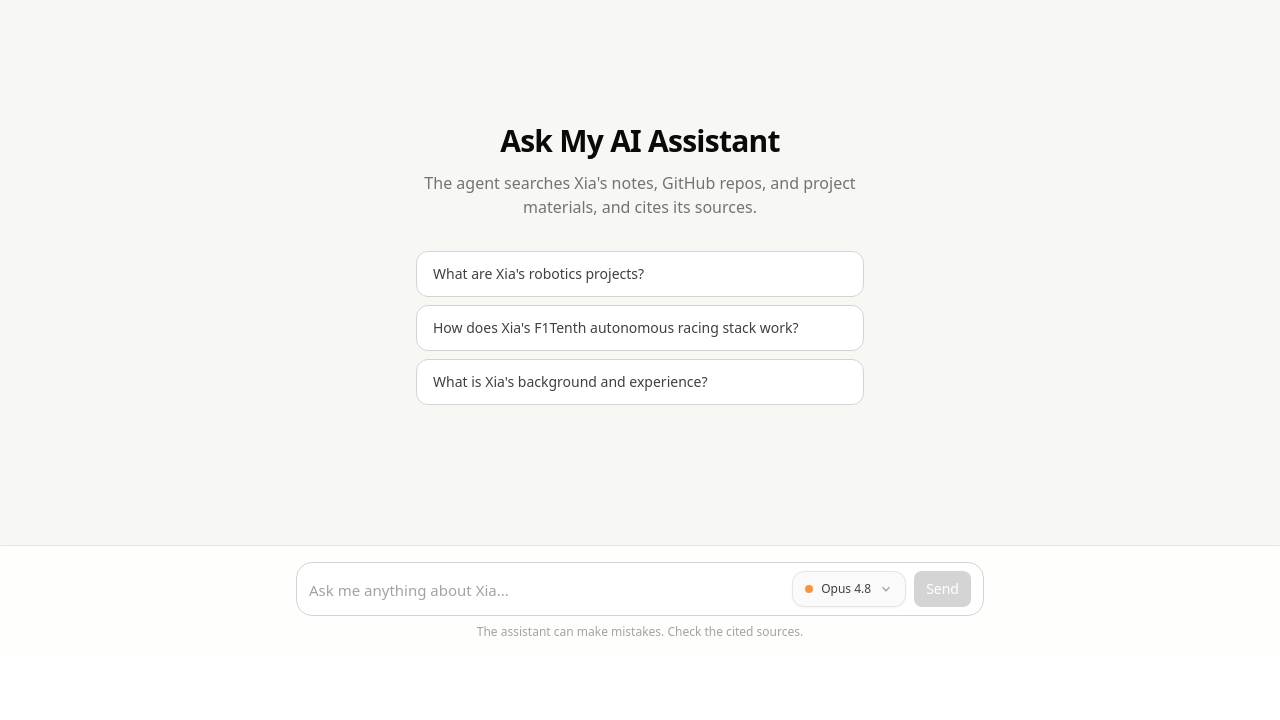
Test: shows a generic error when the chat connection fails
Type "Hello" into the text box with placeholder "Ask me anything about Xia..." at (547, 590), box [309,572,784,607]
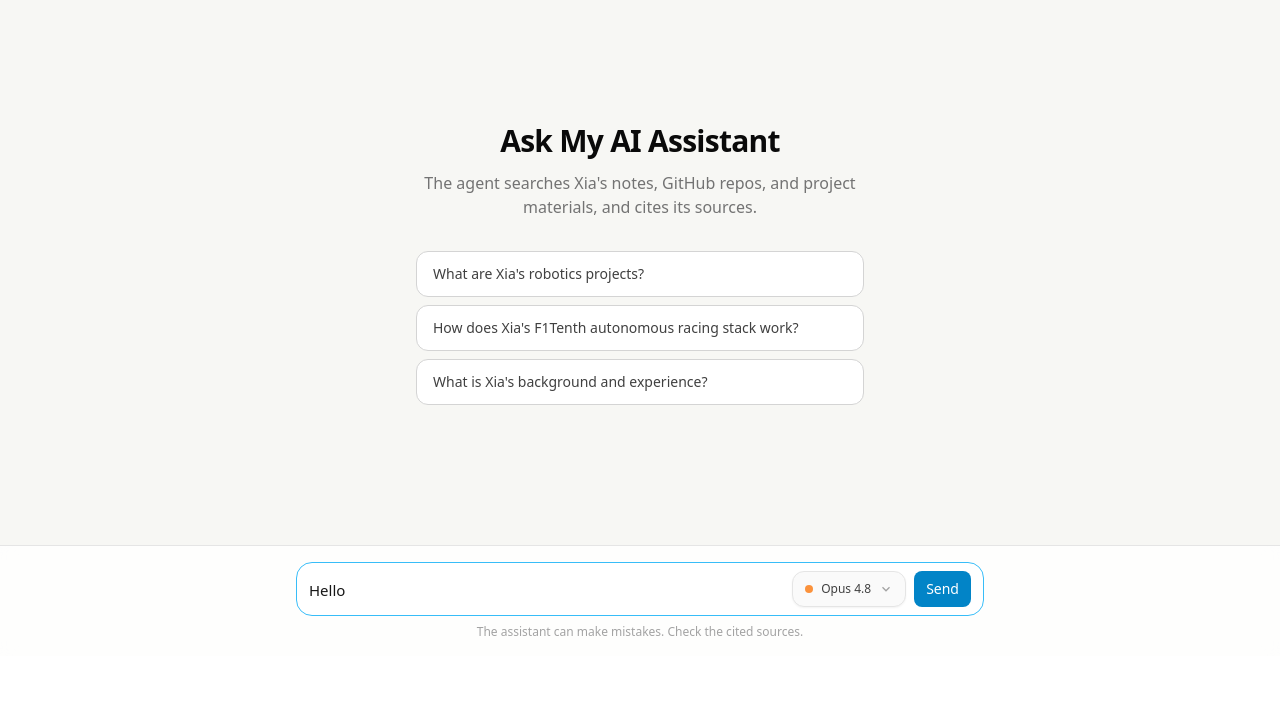
Click the button "Send" at (943, 589), box [914,571,971,607]
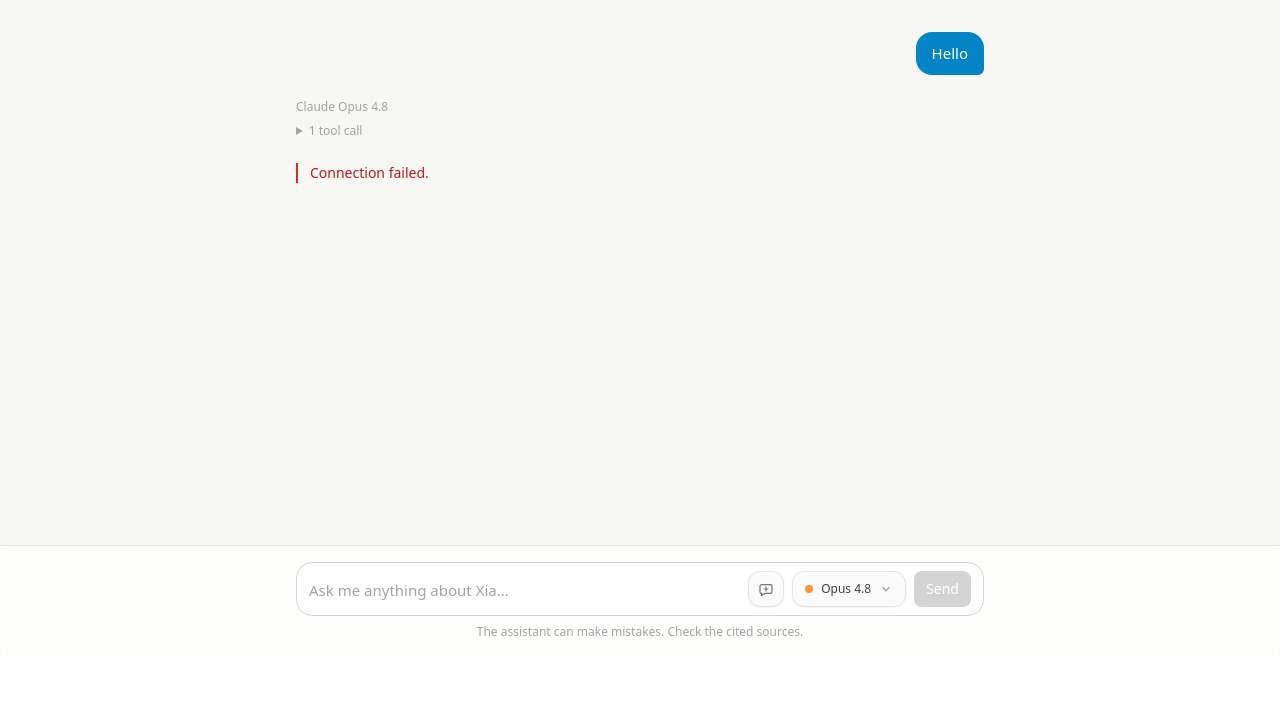
Expected: the text "Connection failed." is shown, [296,162,984,182]
